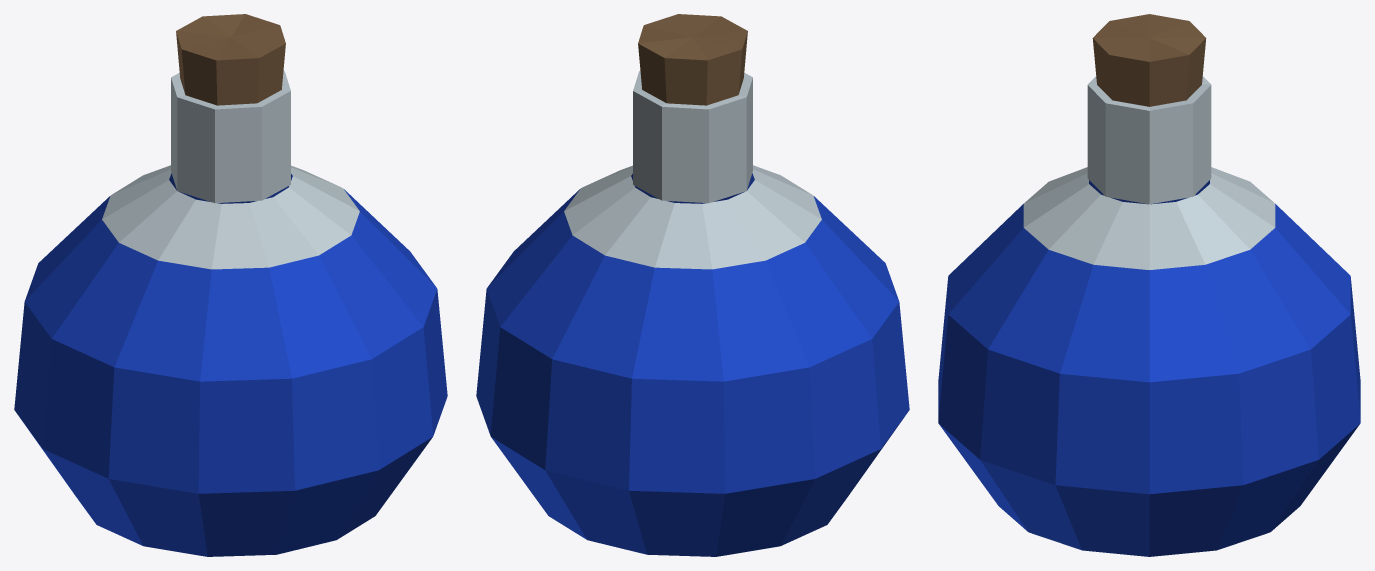
The model's file is i_mpotion.glb.
3 views of the same model, side by side, from view 1: azimuth 30°, elevation 25°; view 2: azimuth 150°, elevation 25°; view 3: azimuth 270°, elevation 25° (orthographic).
Parts seen in each view (by area): view 1: i_mpotion; view 2: i_mpotion; view 3: i_mpotion.
Boxes of the visible parts, bbox=[...] form: i_mpotion: bbox=[14, 14, 447, 556]; i_mpotion: bbox=[476, 14, 909, 556]; i_mpotion: bbox=[938, 14, 1360, 556].
Bounding box in the file's own units: 0.84 × 1 × 0.8189.
